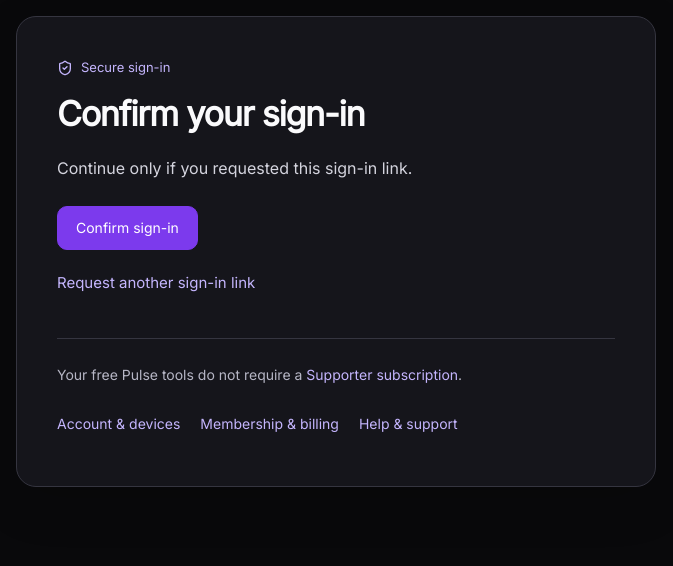
Test case: billing sign-in continuation › offers recovery when the backend rejects an expired sign-in link with 401
Click the button "Confirm sign-in" at {"x": 127, "y": 228}, box left=57, top=206, right=198, bottom=250
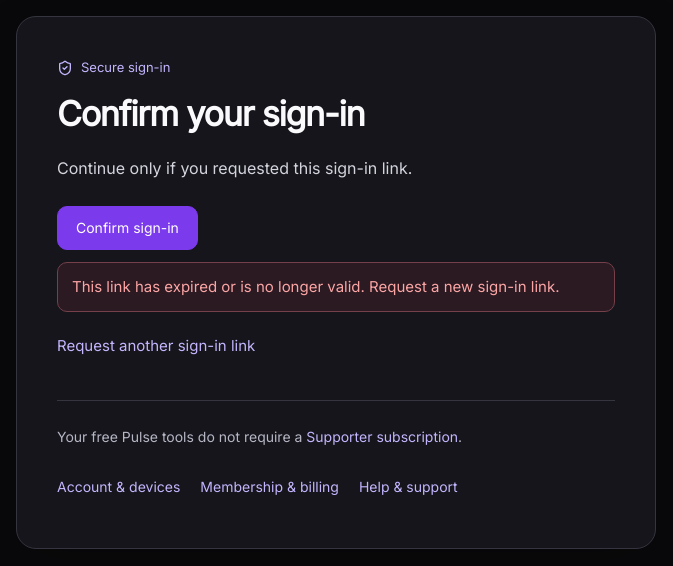
Expected: the link "Request another sign-in link" is shown, left=57, top=336, right=255, bottom=355
Result: the message reads "This link has expired or is no longer valid. Request a new sign-in link." at left=72, top=277, right=560, bottom=296
